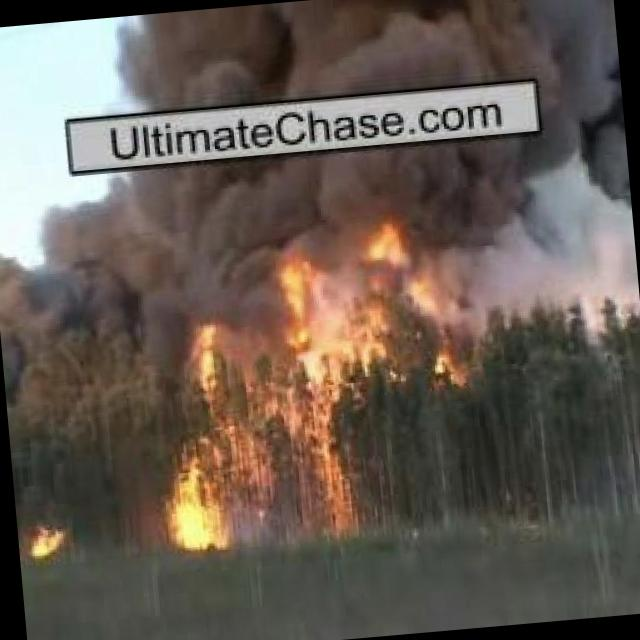Fire: (260, 218, 453, 548), (156, 417, 234, 556), (186, 318, 229, 420), (32, 524, 63, 560)
Smoke: (33, 124, 632, 278), (106, 0, 620, 119), (0, 258, 276, 381), (431, 222, 640, 342)
